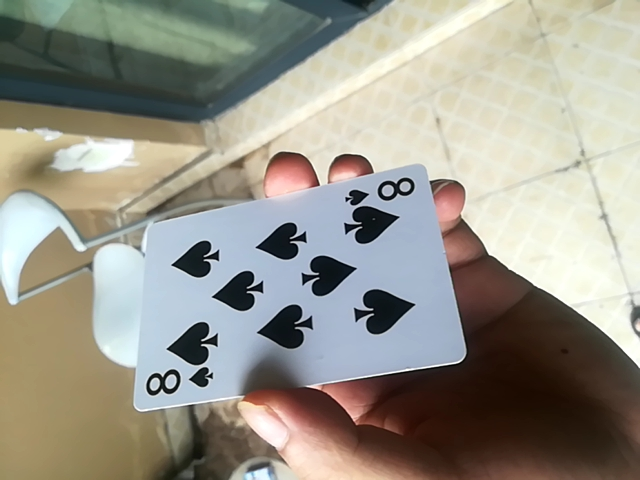ht 8: (129, 162, 467, 417)
